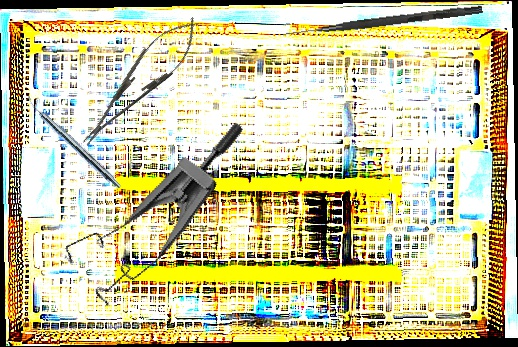Handpiece: (21, 94, 125, 191)
Hook Surgical: (282, 3, 483, 41)
Needle Holder: (68, 6, 211, 158)
Speculum: (50, 78, 247, 326)
